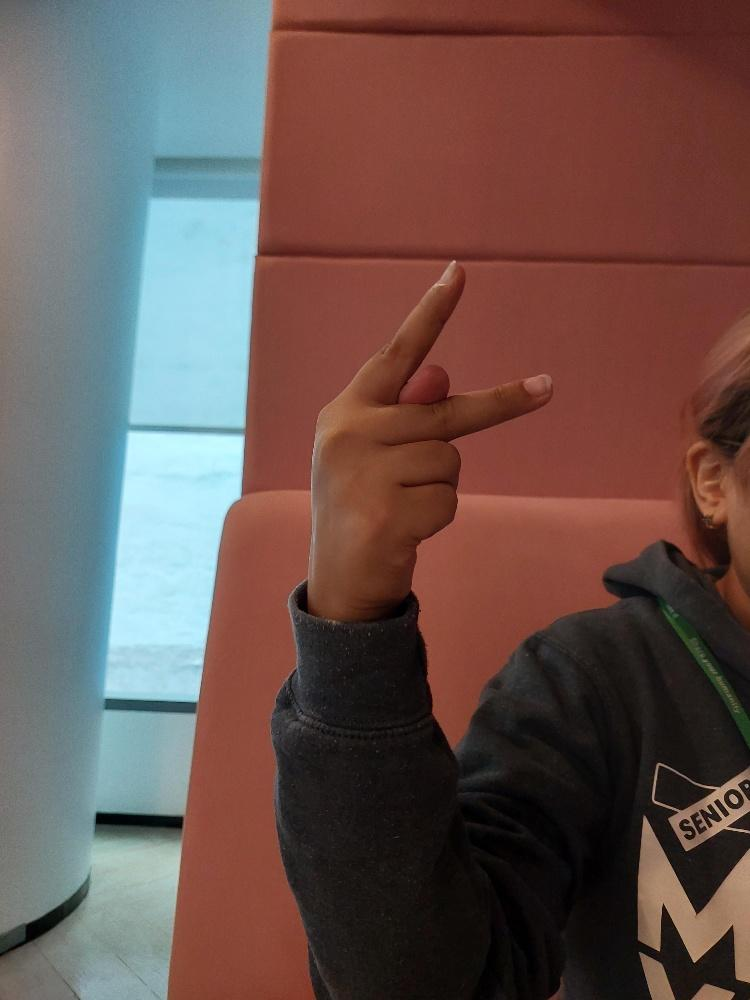k: (300, 250, 558, 602)
